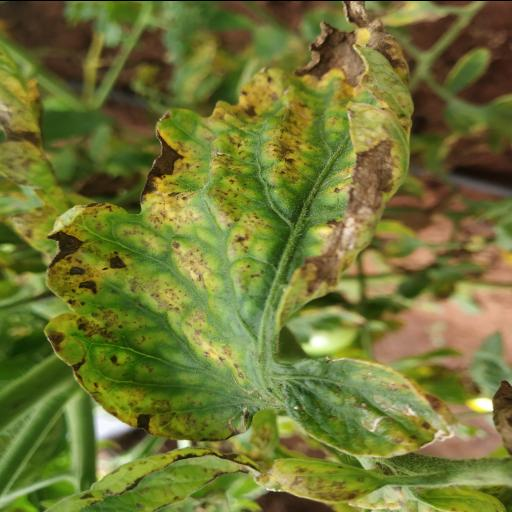Early Blight: (45, 0, 439, 454)
